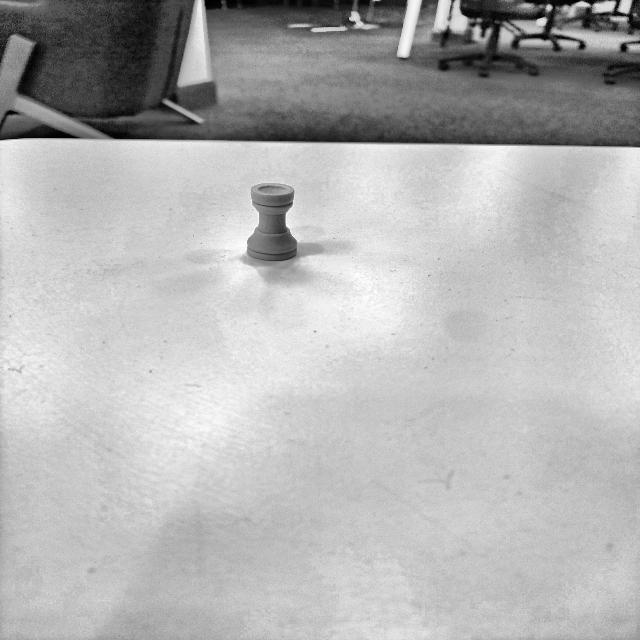white-rook: (246, 183, 298, 261)
